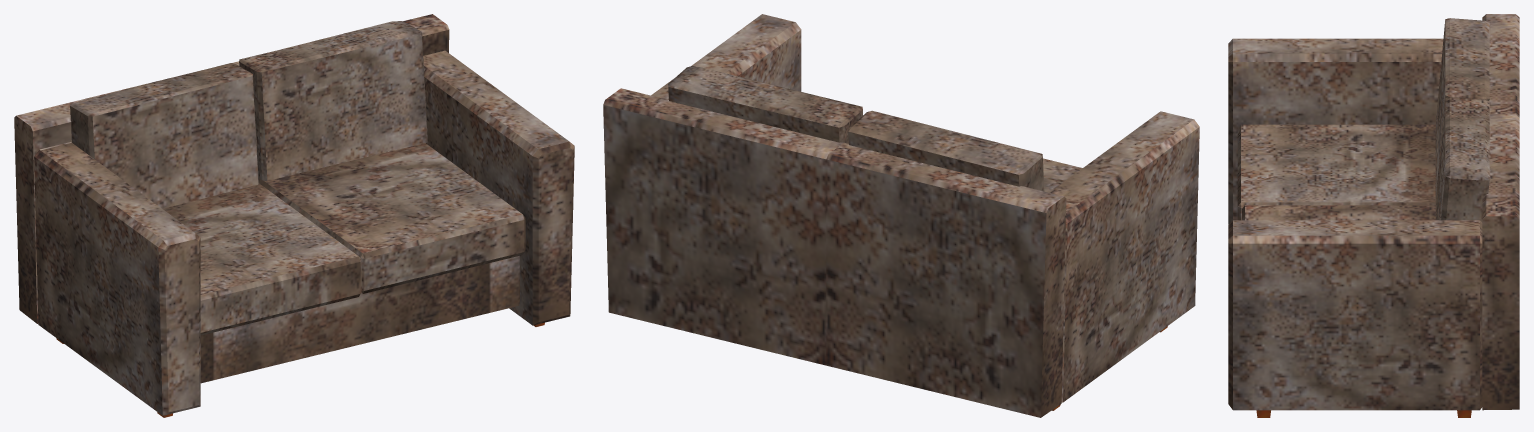
Rendered from couch_pattern.obj.
3 views of the same model, side by side, from view 1: azimuth 30°, elevation 25°; view 2: azimuth 150°, elevation 25°; view 3: azimuth 270°, elevation 25° (orthographic). The views are drawn at different scales.
Parts seen in each view (by area): view 1: couch_pattern; view 2: couch_pattern; view 3: couch_pattern.
Part boxes in pixels (box(x1,y1,x2,y2)): couch_pattern: box(14, 14, 574, 417); couch_pattern: box(603, 14, 1199, 417); couch_pattern: box(1228, 14, 1519, 417).
Size of the model in its own units: 2.24 by 1.19 by 1.36.
